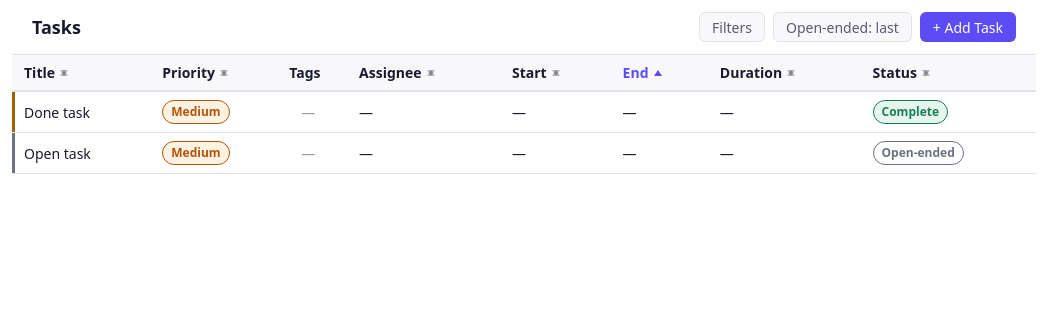
Test case: TaskList › filters by completion status
Expected: the text "Done task" is shown, [12,91,150,132]
Click the button "Filters": (732, 27) [699,12,765,42]
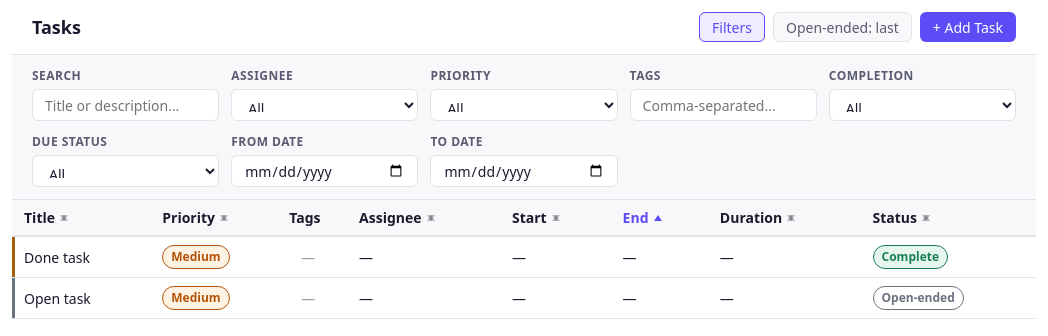
Select "Complete" in the dropdown labelled "Completion": (922, 105) [829,89,1016,121]
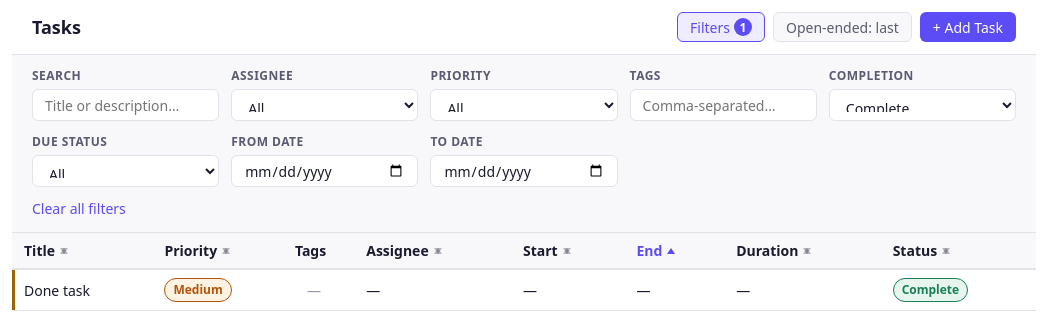
Expected: the text "Done task" is shown, [12,269,152,310]
Result: the text "Open task" is gone
